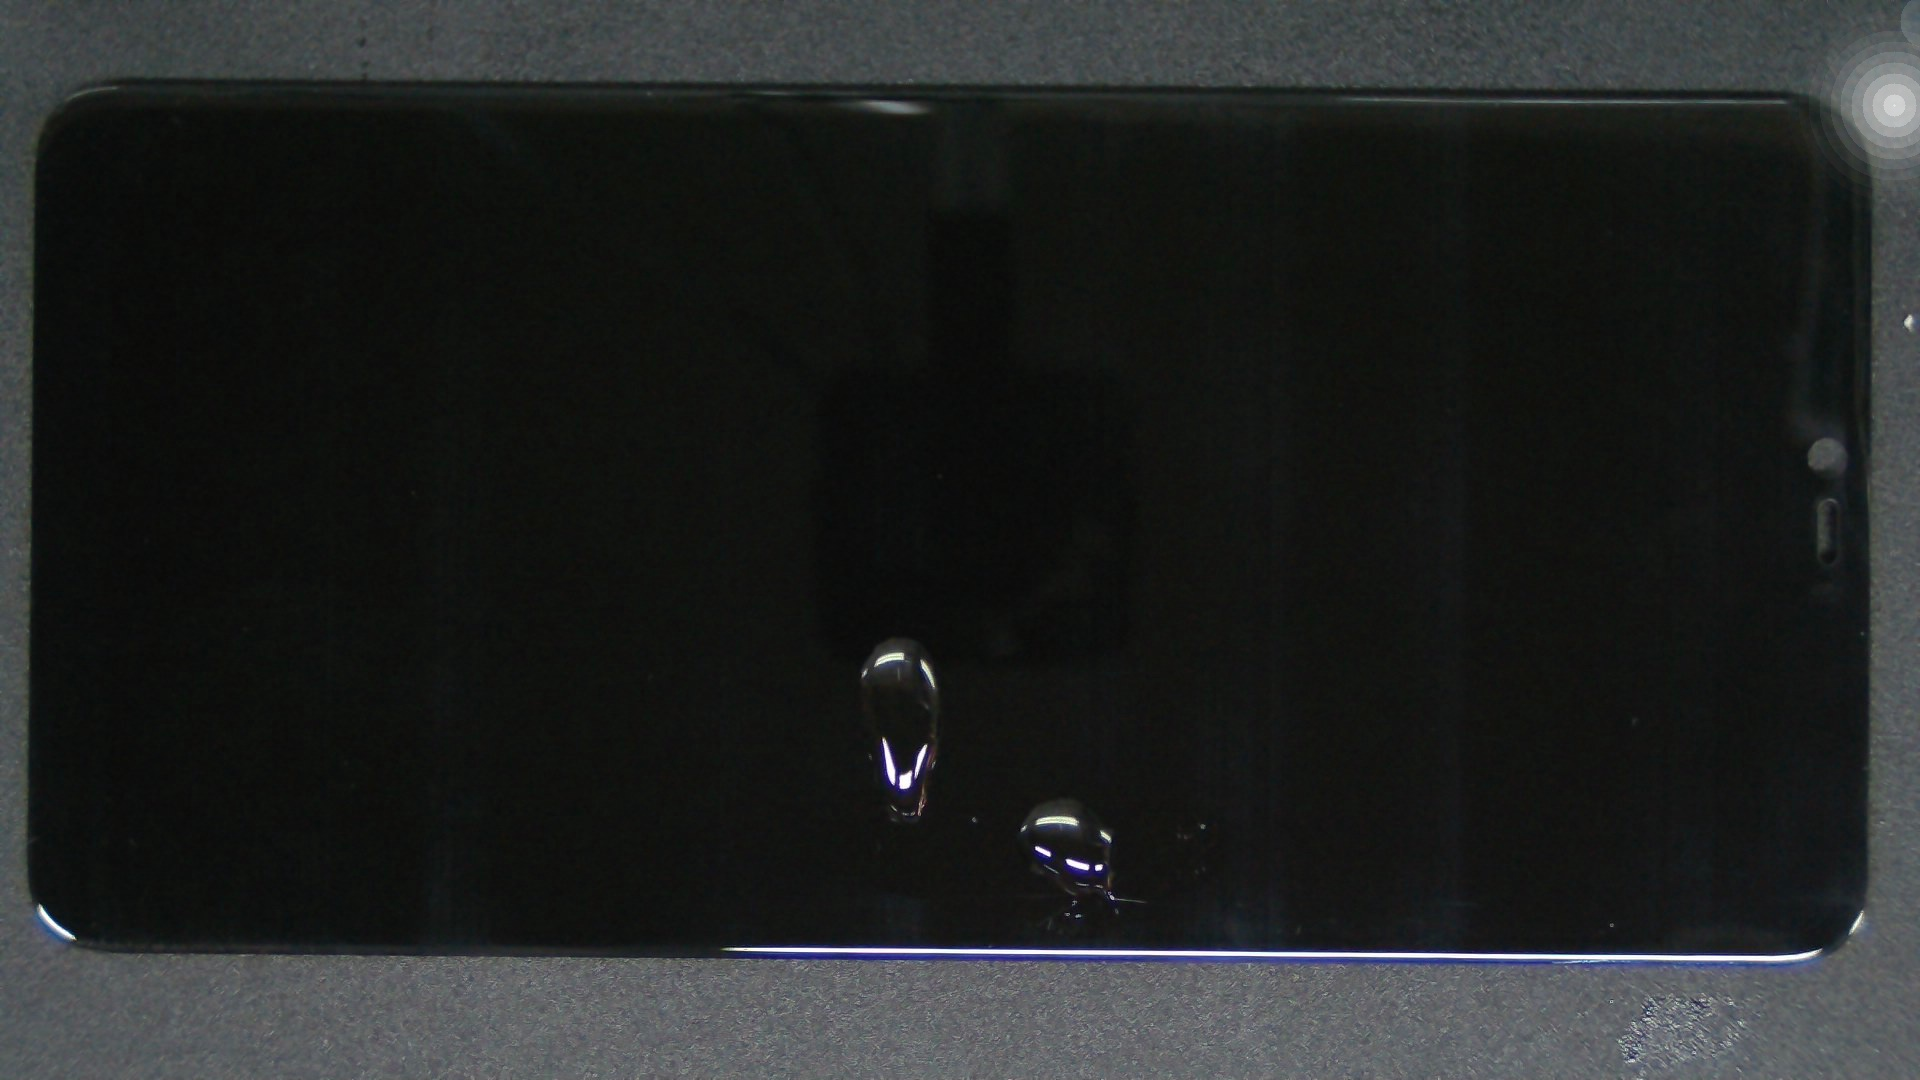oil: (529, 400, 1584, 1080), (446, 318, 1332, 957)
